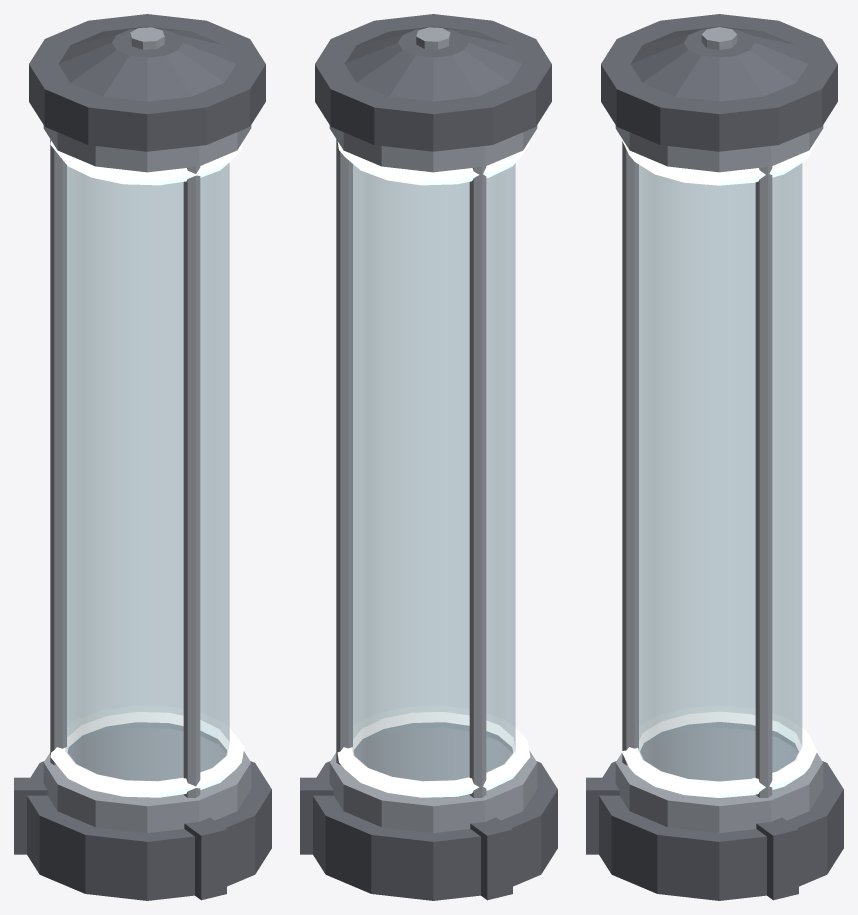
Rendered from BossTube.fbx.
3 renders of one model, left to right at view 1: azimuth 30°, elevation 25°; view 2: azimuth 150°, elevation 25°; view 3: azimuth 270°, elevation 25°, orthographic.
Parts seen in each view (by area): view 1: TubeFrame, TubeGlass; view 2: TubeFrame, TubeGlass; view 3: TubeFrame, TubeGlass.
Boxes of the visible parts, <box> form: TubeFrame: <box>14,14,271,900</box>; TubeGlass: <box>65,163,229,780</box>; TubeFrame: <box>300,14,557,900</box>; TubeGlass: <box>352,163,515,780</box>; TubeFrame: <box>586,14,843,900</box>; TubeGlass: <box>637,163,802,781</box>.
Bounding box in the file's own units: 0.84 × 3.03 × 0.87.
